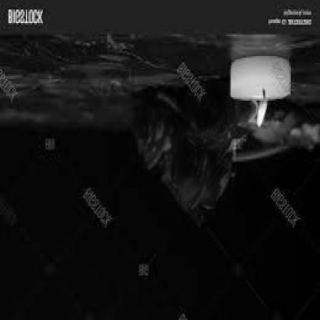Fire: (244, 77, 272, 139)
